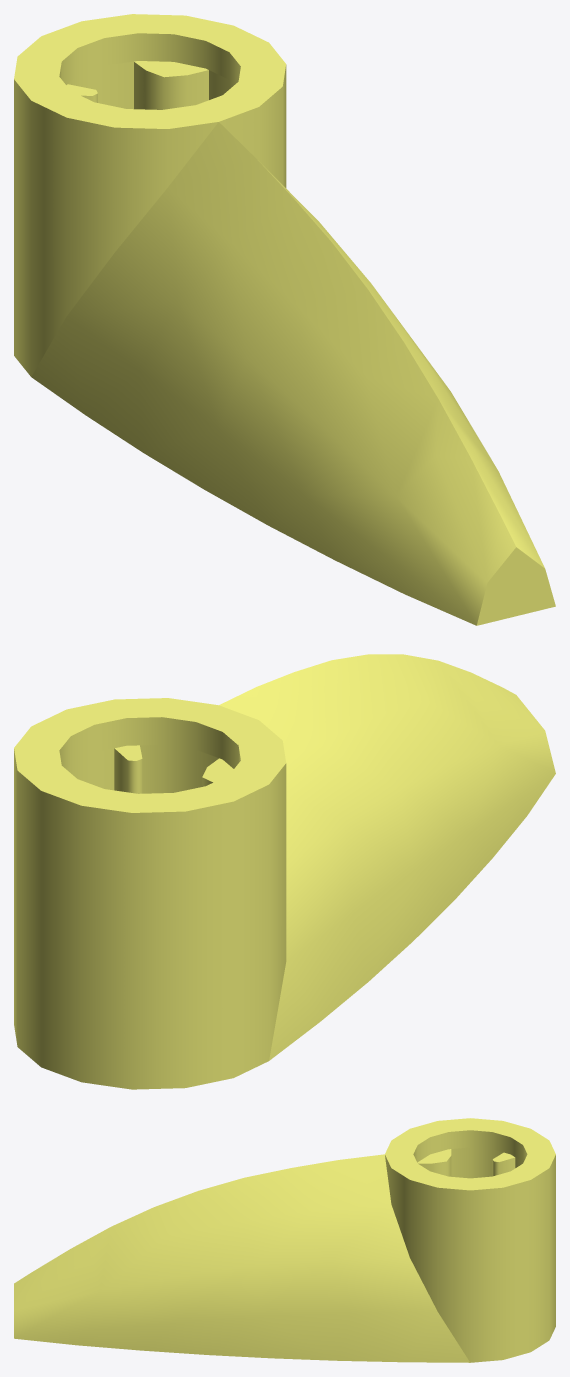
The picture shows the model from 3 angles, top to bottom: view 1: azimuth 30°, elevation 25°; view 2: azimuth 150°, elevation 25°; view 3: azimuth 270°, elevation 25°; orthographic projection. The views are drawn at different scales.
Visible parts, largest first — view 1: 41669.dat; view 2: 41669.dat; view 3: 41669.dat.
Part boxes in pixels (x1=…): 41669.dat: x1=14, y1=14, x2=555, y2=625; 41669.dat: x1=14, y1=654, x2=555, y2=1089; 41669.dat: x1=14, y1=1118, x2=555, y2=1362.
Size of the model in its own units: 0.0072 by 0.008 by 0.0228.
